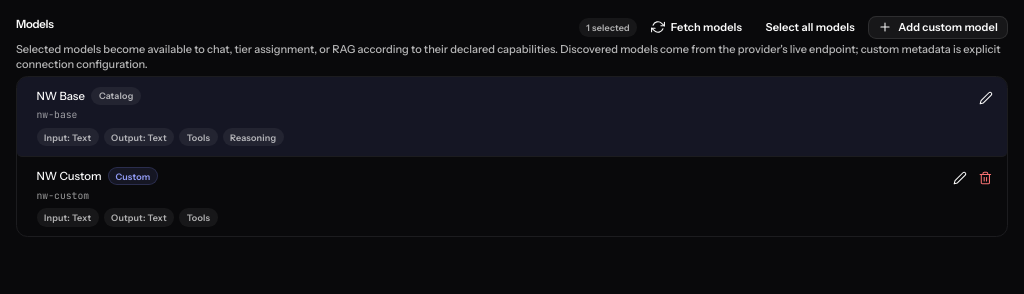
connection models unified listing › runs manual discovery from the listing and surfaces a non-blocking result
The width and height of the screenshot is (1024, 294).
Click the button "Fetch models" at x=696, y=27, box [641,16,752,39]
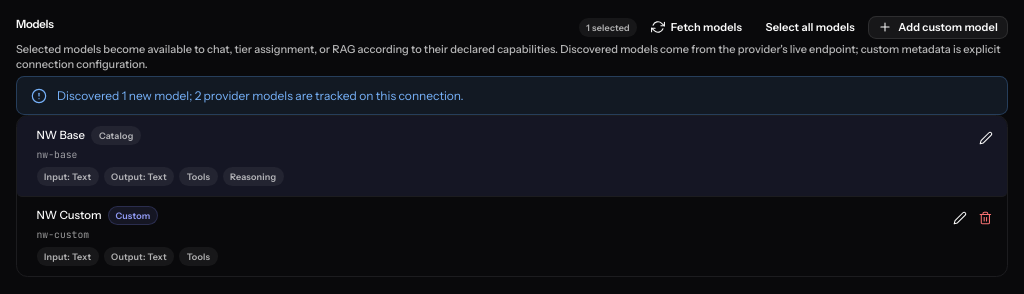
expect the text "Discovered 1 new model" is shown: met, box [57,88,464,103]
